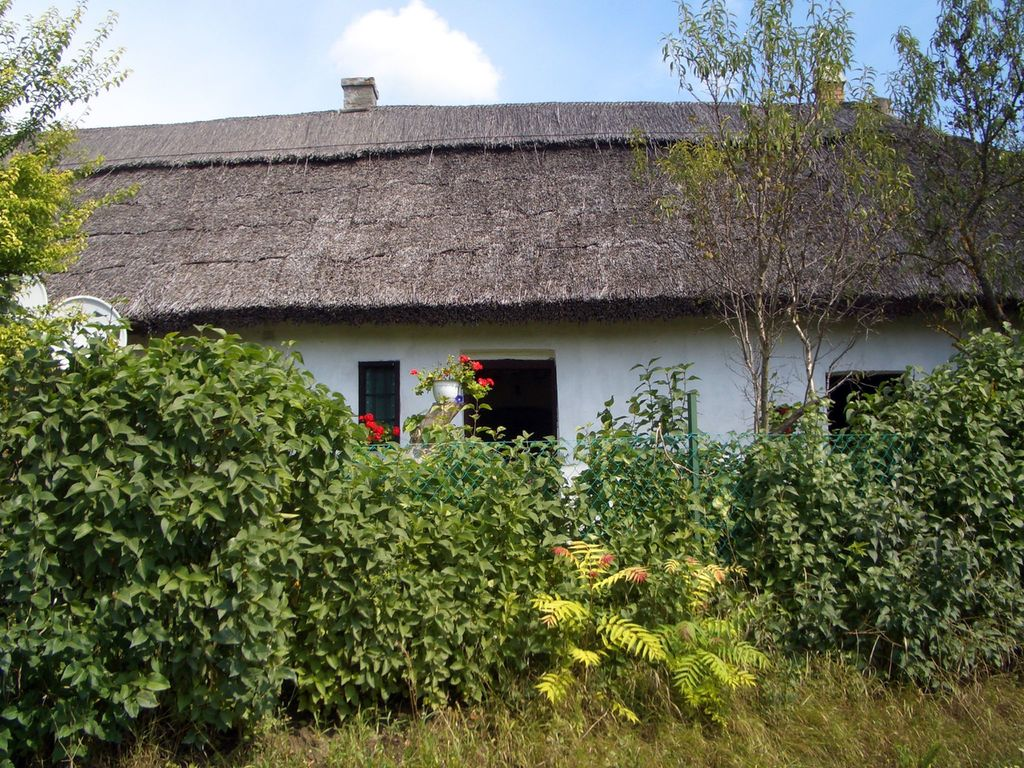Window: (341, 341, 405, 429)
